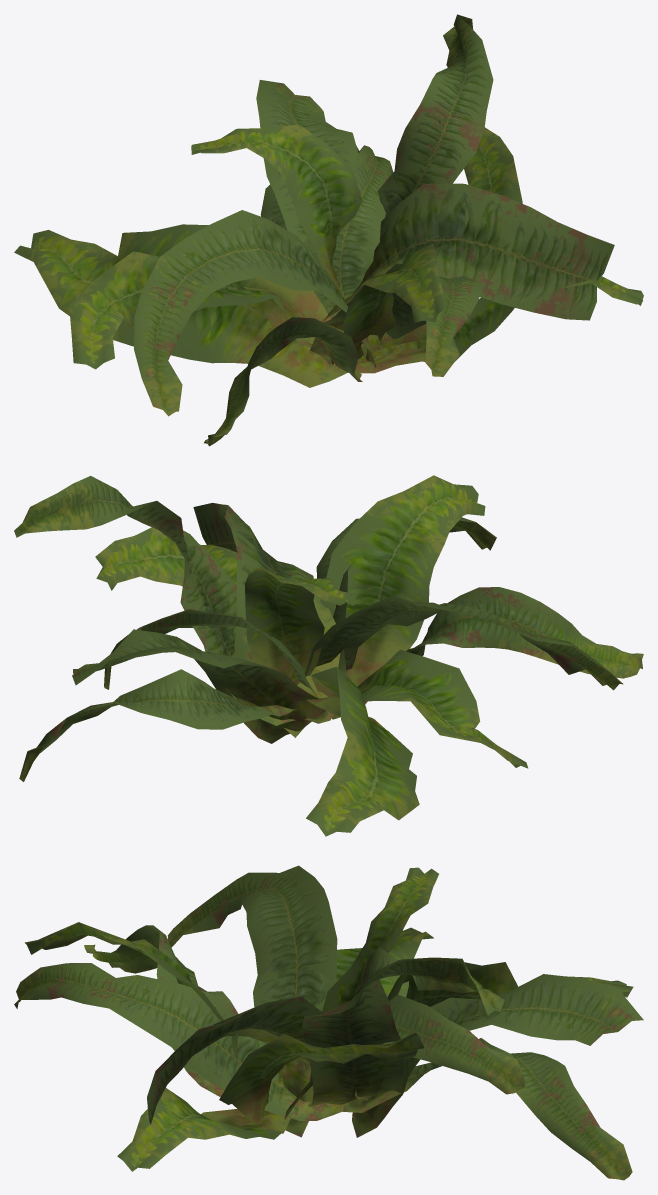
3 renders of one model, top to bottom at view 1: azimuth 30°, elevation 25°; view 2: azimuth 150°, elevation 25°; view 3: azimuth 270°, elevation 25°, orthographic. The views are drawn at different scales.
Visible parts, largest first — view 1: Plane.006, Plane.059; view 2: Plane.059, Plane.006; view 3: Plane.006, Plane.059.
Boxes of the visible parts, x1,y1,x2,y2 form: Plane.006: (69, 14, 614, 376); Plane.059: (14, 127, 643, 446); Plane.059: (95, 475, 643, 836); Plane.006: (14, 476, 528, 781); Plane.006: (14, 867, 643, 1180); Plane.059: (24, 865, 633, 1171).
Size of the model in its own units: 0.5728 by 0.2868 by 0.6134.
Materials: 1 (1 with a texture image).
